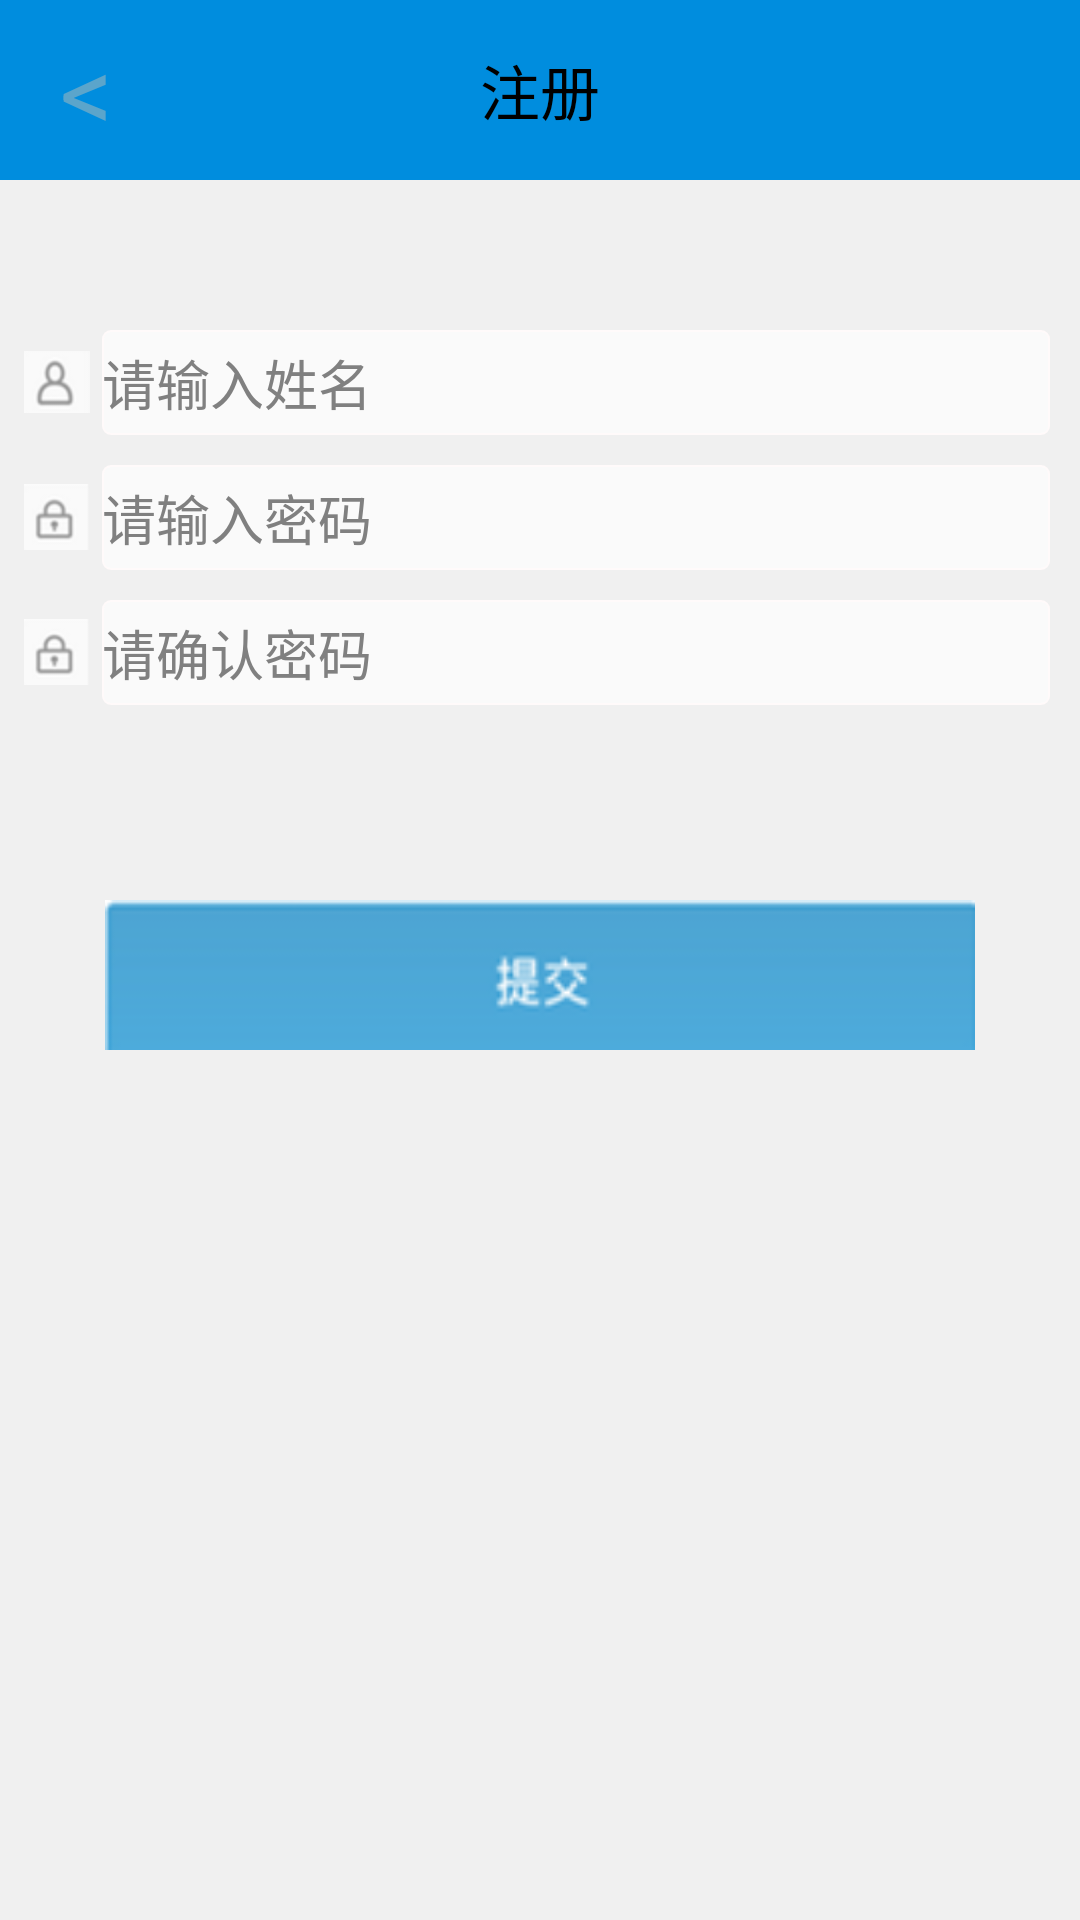

Named icons in this screenshot (1080*1920) and their bounding boxes, (x1,y1,x2,y2):
用户输入密码的图标: (24,484,88,550)
用户输入确认密码的图标: (24,619,87,685)
